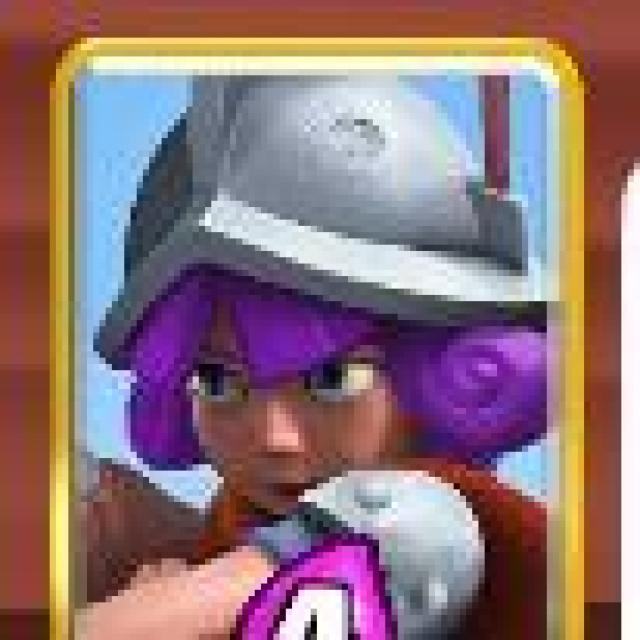Musketeer: (50, 41, 585, 640)
